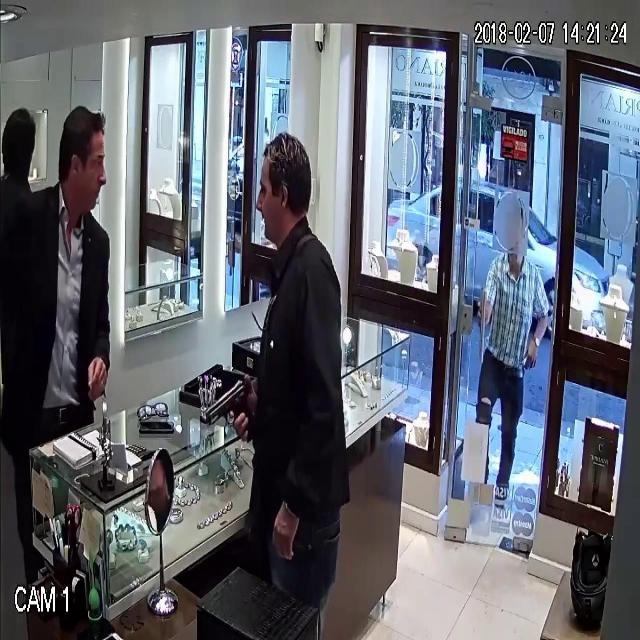gun: (194, 358, 258, 458)
